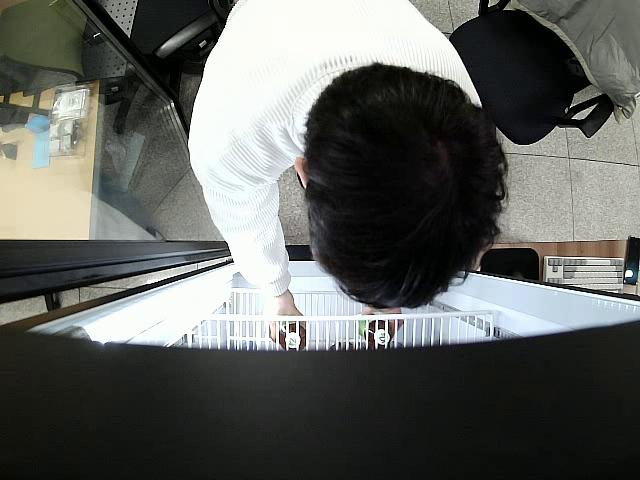00_hand: (267, 297, 307, 340)
19_17cha: (355, 314, 392, 347), (273, 319, 307, 353)
